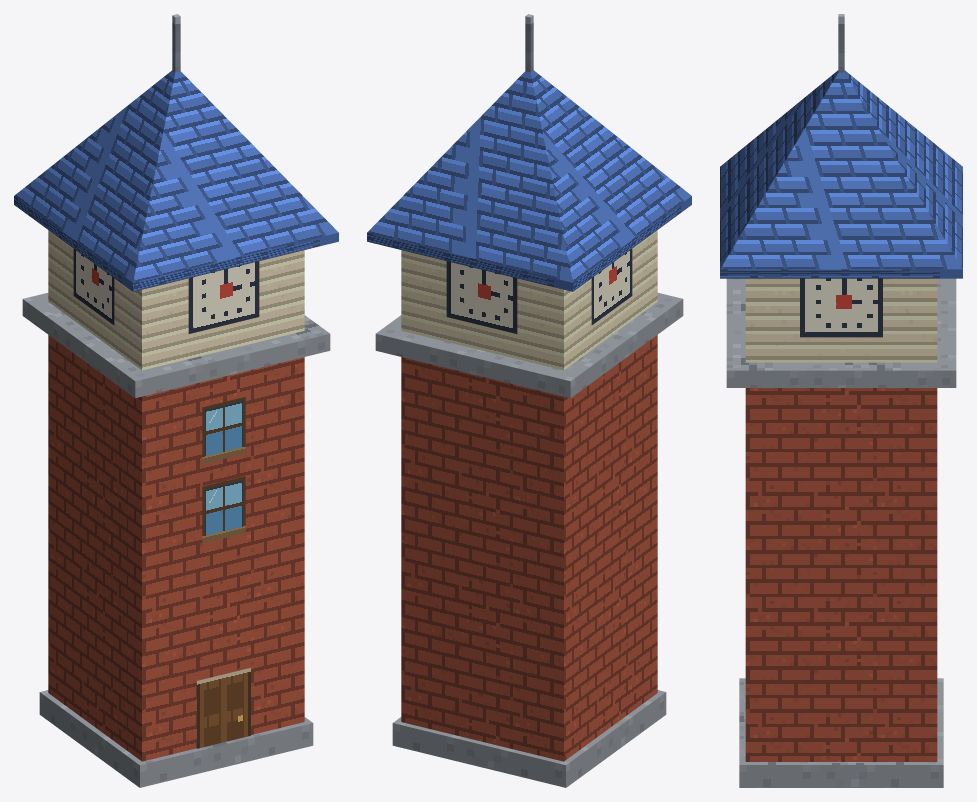
The model's file is clock_tower.glb.
3 views of the same model, side by side, from view 1: azimuth 30°, elevation 25°; view 2: azimuth 150°, elevation 25°; view 3: azimuth 270°, elevation 25° (orthographic). The views are drawn at different scales.
Parts seen in each view (by area): view 1: clock_tower; view 2: clock_tower; view 3: clock_tower.
Part boxes in pixels (x1,y1,x2,y2): clock_tower: [14, 14, 338, 787]; clock_tower: [367, 14, 691, 787]; clock_tower: [720, 14, 962, 787].
Size of the model in its own units: 3.8 by 12.6 by 3.8.
Materials: 8 (8 with a texture image).
